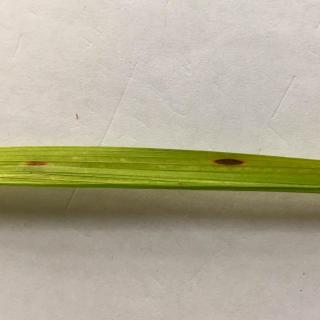bercak-Cokelat: (209, 154, 248, 172), (25, 159, 59, 173)
